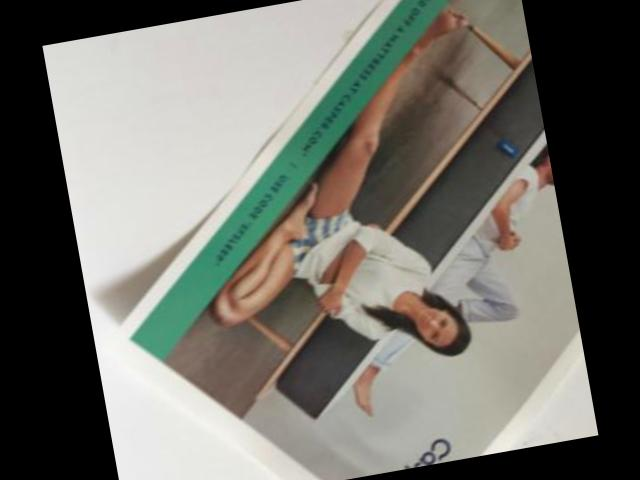cardboard paper: (110, 0, 583, 480)
